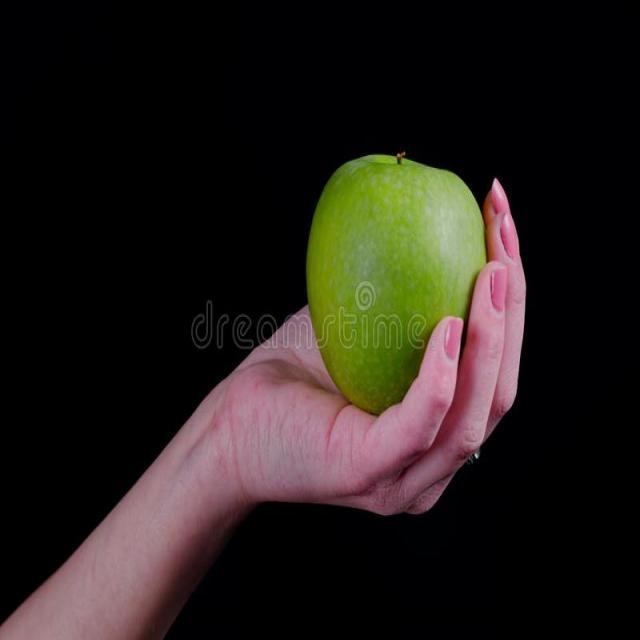Fresh Apple: (300, 157, 487, 395)
